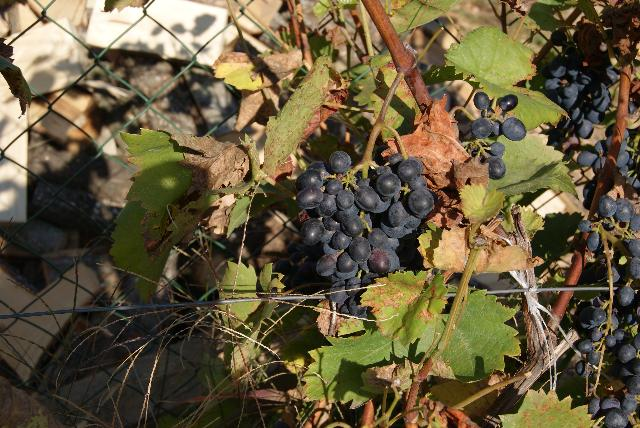grapes: (296, 151, 439, 318), (575, 190, 640, 428), (459, 91, 526, 180)
